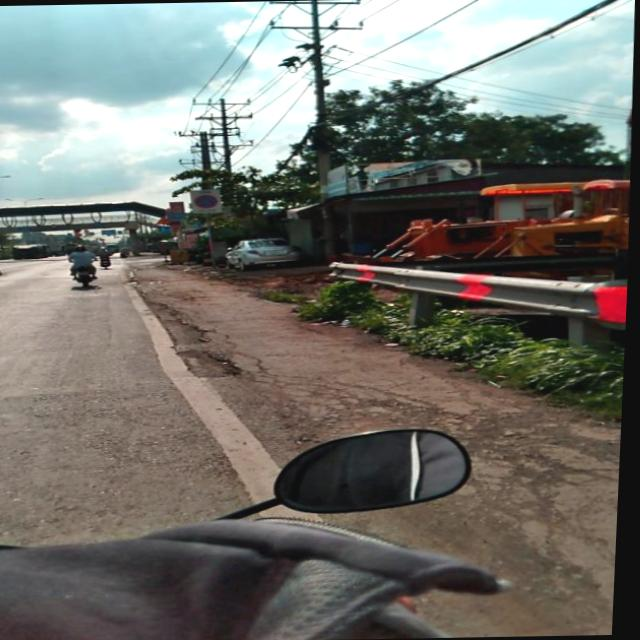Cam dung xe va do xe: (195, 194, 220, 208)
